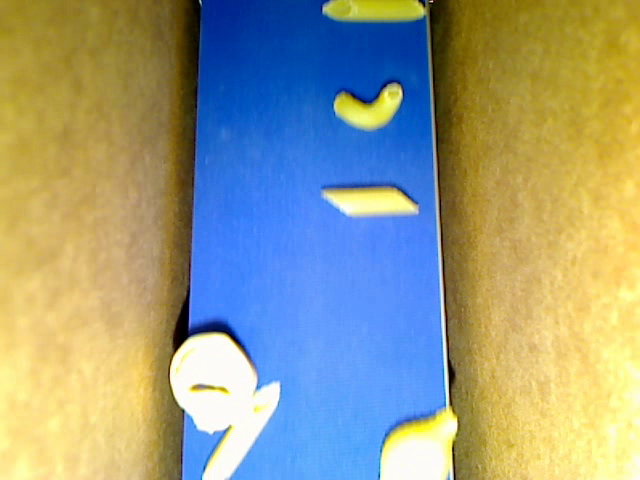elbow: (334, 80, 405, 131)
penne: (200, 380, 280, 479), (321, 182, 421, 216), (322, 1, 427, 23)
shell: (379, 405, 457, 479)
tortellini: (169, 332, 257, 436)
